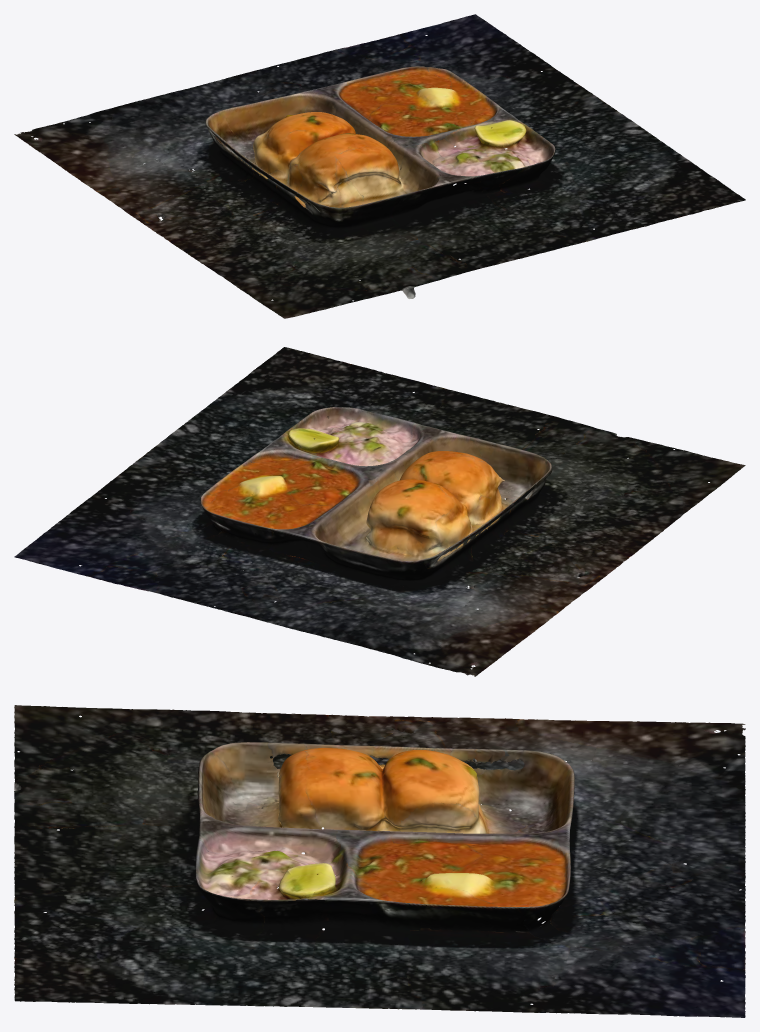
File: butter_pao_bhaji.glb
3 views of the same model, one above another, from view 1: azimuth 30°, elevation 25°; view 2: azimuth 150°, elevation 25°; view 3: azimuth 270°, elevation 25° (orthographic). The views are drawn at different scales.
Parts seen in each view (by area): view 1: 3DModel_Custom; view 2: 3DModel_Custom; view 3: 3DModel_Custom.
Part boxes in pixels (box(x1,y1,x2,y2)): 3DModel_Custom: box(14, 14, 745, 318); 3DModel_Custom: box(14, 347, 745, 676); 3DModel_Custom: box(14, 705, 745, 1017).
Bounding box in the file's own units: 0.4183 × 0.0533 × 0.4251.
1 material, 1 textured.
